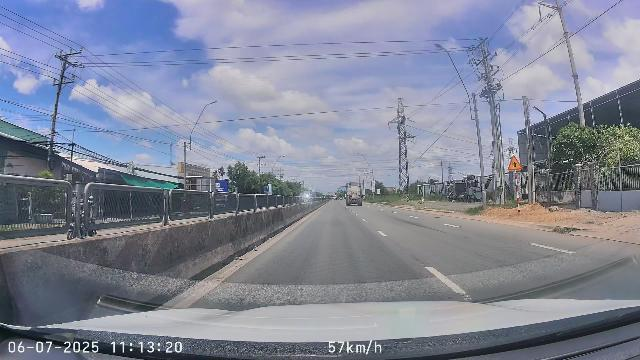207-giao-nhau-voi-duong-khong-uu-tien: (508, 155, 522, 171)
